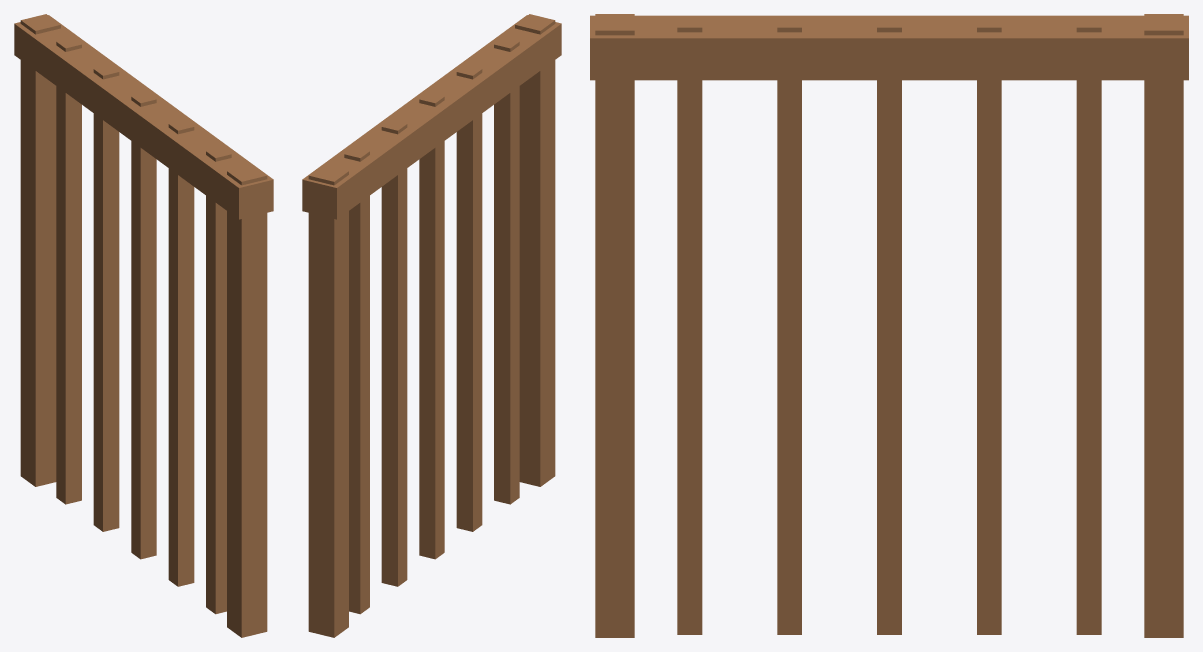
Rendered from res_rail_level.glb.
The picture shows the model from 3 angles, left to right: view 1: azimuth 30°, elevation 25°; view 2: azimuth 150°, elevation 25°; view 3: azimuth 270°, elevation 25°; orthographic projection. The views are drawn at different scales.
Parts seen in each view (by area): view 1: res_rail_level; view 2: res_rail_level; view 3: res_rail_level.
Part boxes in pixels (<box>): res_rail_level: <box>14,14,273,637</box>; res_rail_level: <box>302,14,561,637</box>; res_rail_level: <box>590,14,1188,637</box>.
Bounding box in the file's own units: 0.075 × 0.94 × 0.84.
